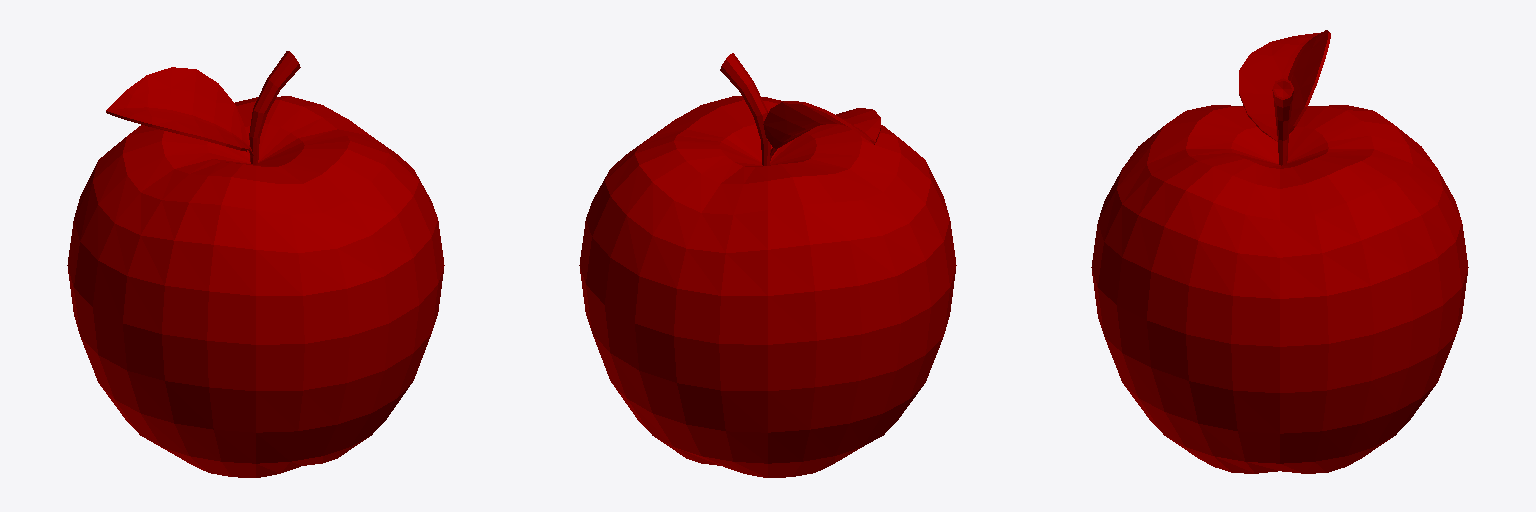
Rendered from Apple.obj.
The picture shows the model from 3 angles: view 1: azimuth 30°, elevation 25°; view 2: azimuth 150°, elevation 25°; view 3: azimuth 270°, elevation 25°; orthographic projection.
Visible parts, largest first — view 1: Apple; view 2: Apple; view 3: Apple.
Boxes of the visible parts, <box> form: Apple: <box>67,51,444,477</box>; Apple: <box>579,53,956,477</box>; Apple: <box>1091,30,1468,473</box>.
Bounding box in the file's own units: 1.6 × 1.82 × 1.6.